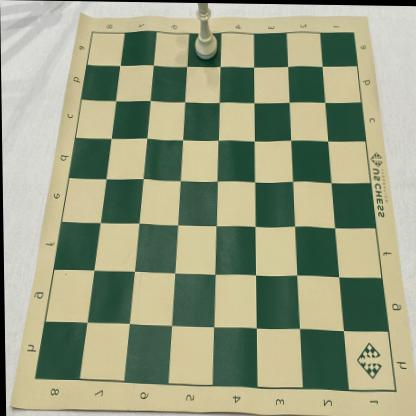white-king: (194, 2, 218, 60)
